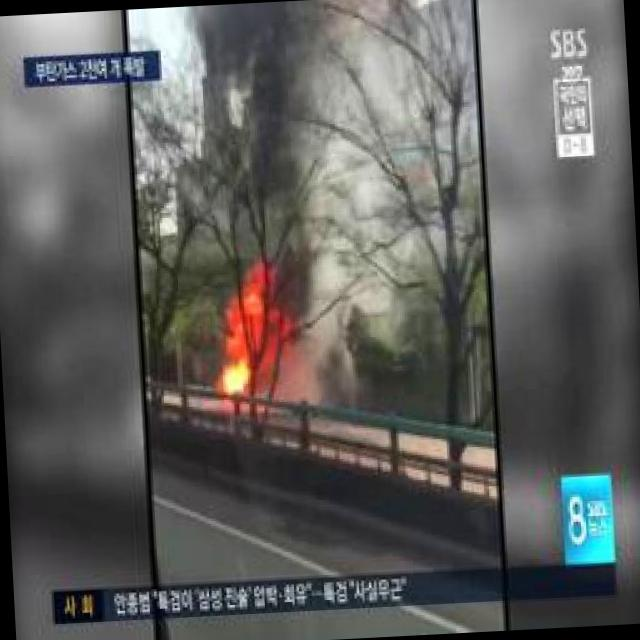Fire: (215, 284, 298, 394)
